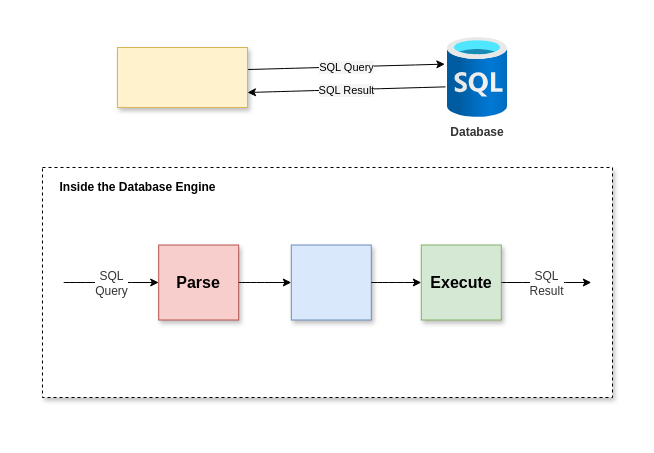
The diagram is 654 pixels wide and 453 high, and some of its shapes have lost their labels. The centre of each missing label's shape, as x and y in pixels:
Application: the point at 183,78
Optimize: the point at 331,283
